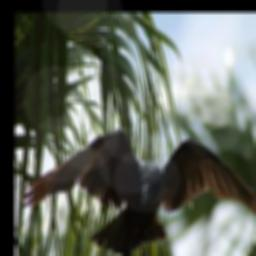Crow: (22, 125, 256, 256)
